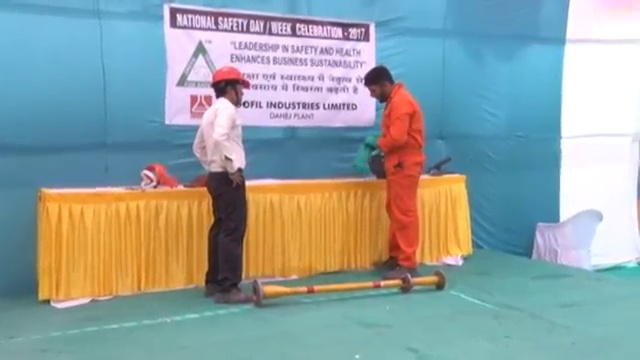helmet: (210, 64, 249, 91)
helmet_off: (362, 67, 398, 105)
helmet_on: (209, 65, 252, 107)
person: (189, 65, 253, 304), (362, 66, 425, 279)
